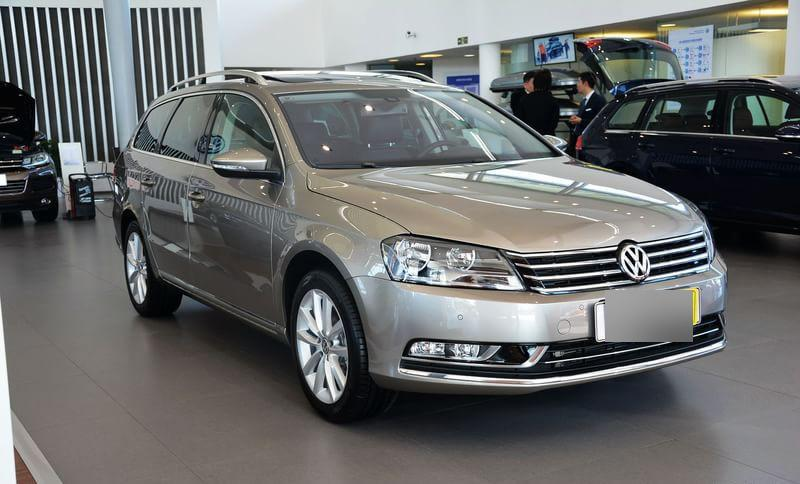Wagon: (111, 67, 730, 426)
